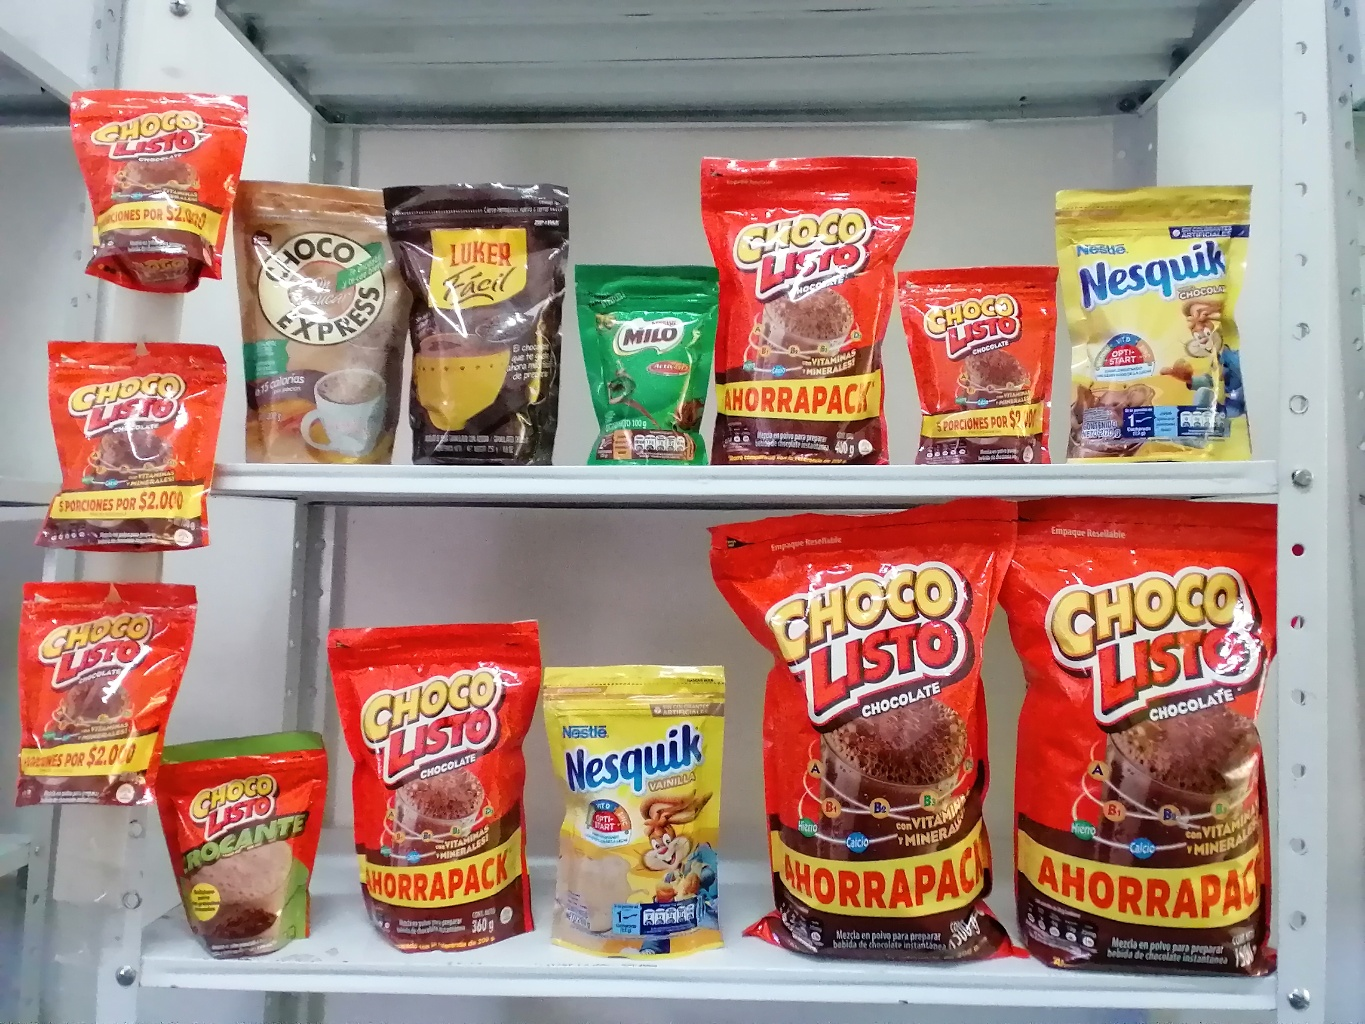COL0170102DYP10000: (150, 740, 329, 962)
COL0170103DYP1,500: (997, 497, 1280, 978)
COL0170103DYP10000: (65, 82, 248, 298)
COL0170103DYP36000: (327, 620, 540, 951)
COL0170103DYP40000: (699, 151, 918, 464)
COL0170203DYP10000: (577, 261, 717, 466)
COL0170303DYP20000: (1052, 185, 1257, 463)
COL0170306DYP20000: (542, 664, 734, 953)
